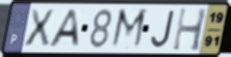8: (88, 8, 115, 51)
A: (47, 8, 82, 49)
H: (170, 6, 209, 53)
J: (150, 9, 177, 49)
M: (109, 7, 150, 51)
X: (23, 8, 56, 48)
